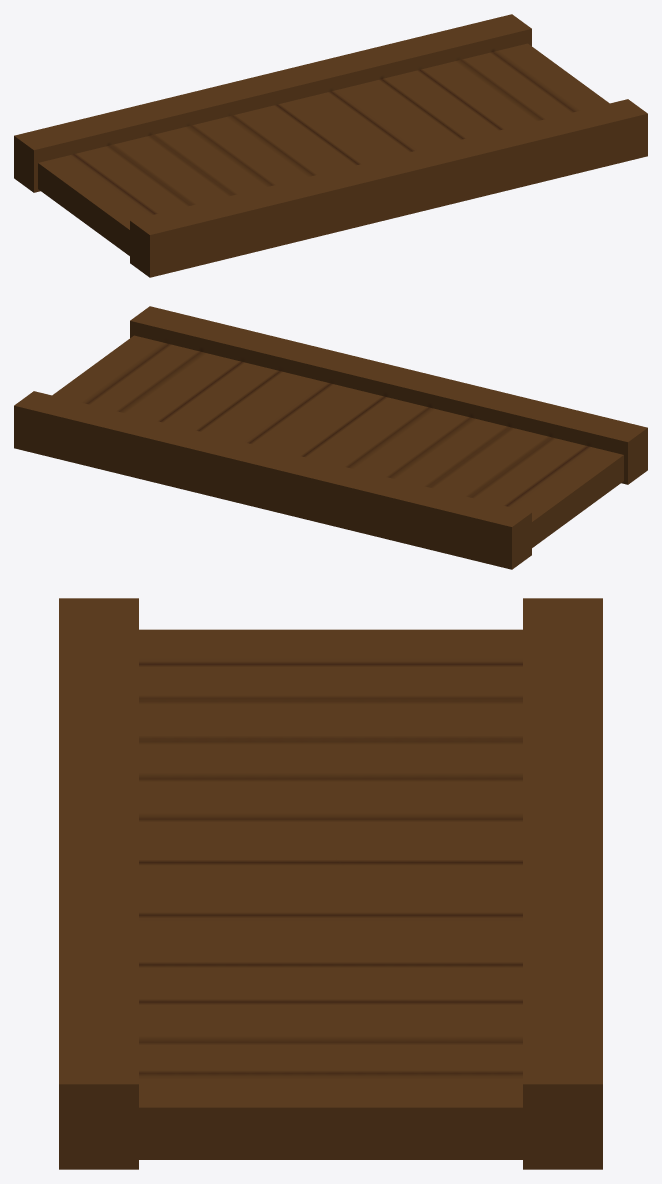
File: Bridge 3.fbx
3 renders of one model, top to bottom at view 1: azimuth 30°, elevation 25°; view 2: azimuth 150°, elevation 25°; view 3: azimuth 270°, elevation 25°, orthographic. The views are drawn at different scales.
Visible parts, largest first — view 1: Bridge_3; view 2: Bridge_3; view 3: Bridge_3.
Boxes of the visible parts, <box> form: Bridge_3: <box>14,14,647,277</box>; Bridge_3: <box>14,306,647,569</box>; Bridge_3: <box>59,598,602,1169</box>.
Bounding box in the file's own units: 1002 × 81.96 × 473.
Materials: 1 (1 with a texture image).
